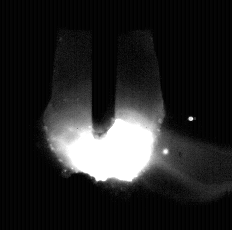arame: (92, 0, 117, 138)
poca: (43, 0, 164, 230)
